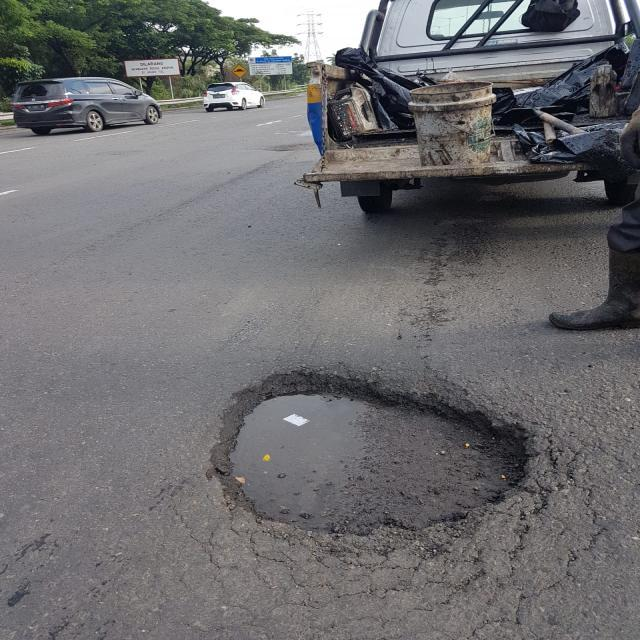Buraco: (205, 367, 546, 564), (429, 213, 489, 229), (472, 190, 513, 206)
